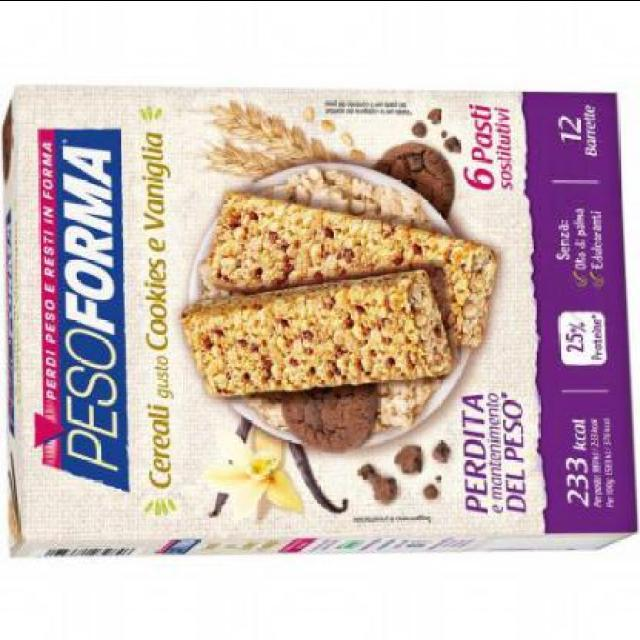Cereal bar: (1, 83, 628, 560)
